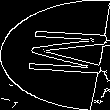M_E: (4, 30, 106, 80)
